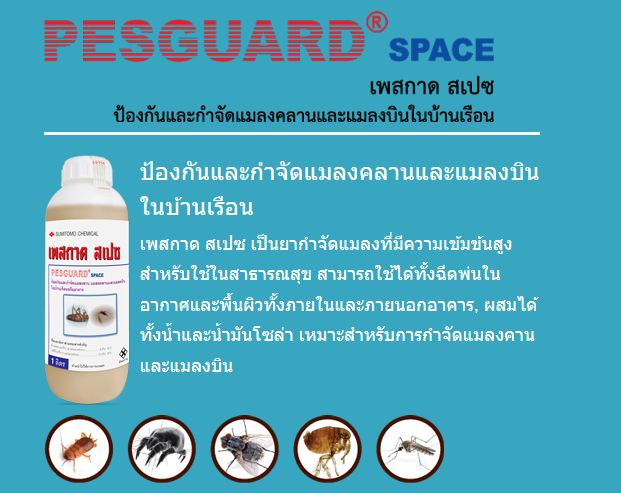Insecticide: (40, 152, 136, 411)
